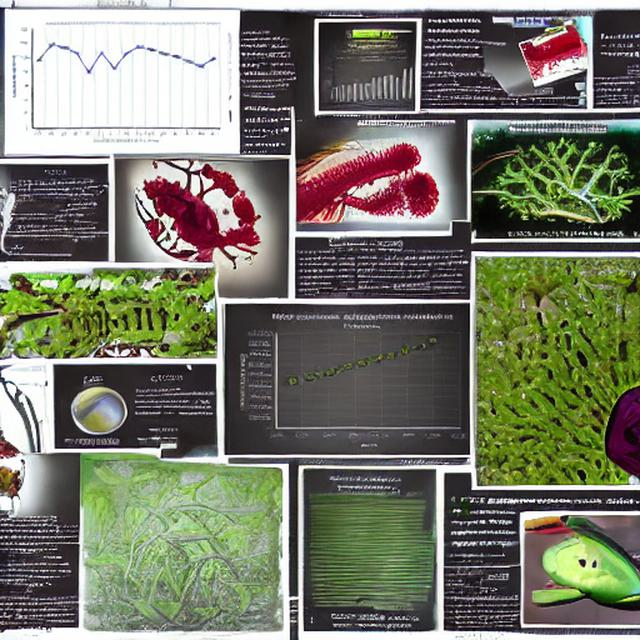Graph: (227, 311, 470, 455), (6, 15, 225, 150), (322, 55, 415, 111)
